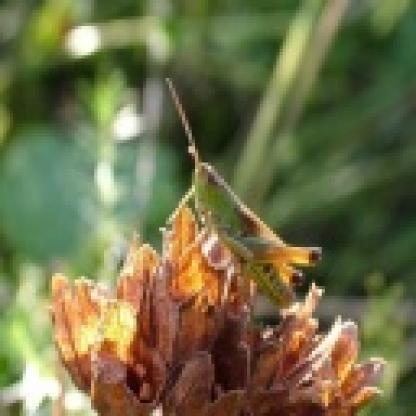grasshopper: (161, 92, 314, 290)
